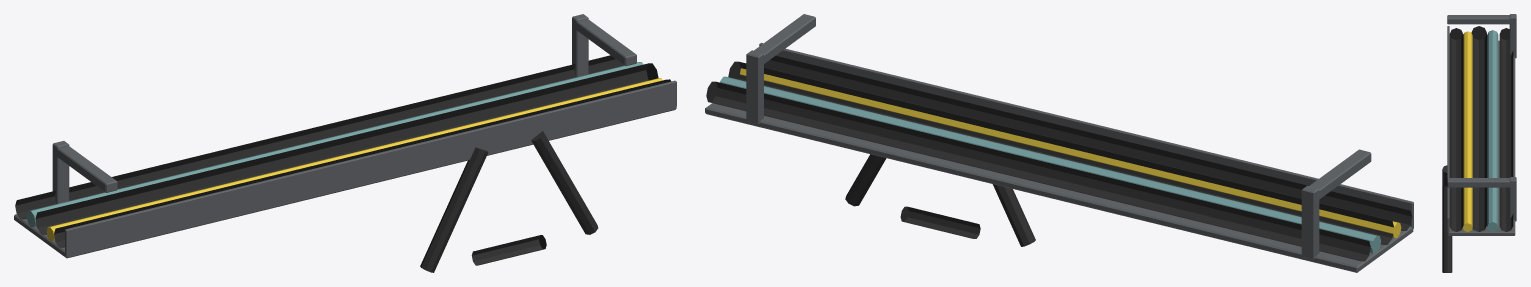
The model's file is conduit_tray.glb.
3 renders of one model, left to right at view 1: azimuth 30°, elevation 25°; view 2: azimuth 150°, elevation 25°; view 3: azimuth 270°, elevation 25°, orthographic. The views are drawn at different scales.
Visible parts, largest first — view 1: conduit_tray; view 2: conduit_tray; view 3: conduit_tray.
Boxes of the visible parts, x1,y1,x2,y2 form: conduit_tray: [14, 14, 676, 272]; conduit_tray: [705, 14, 1413, 272]; conduit_tray: [1442, 14, 1516, 272].
Size of the model in its own units: 2 by 0.542 by 0.327.
